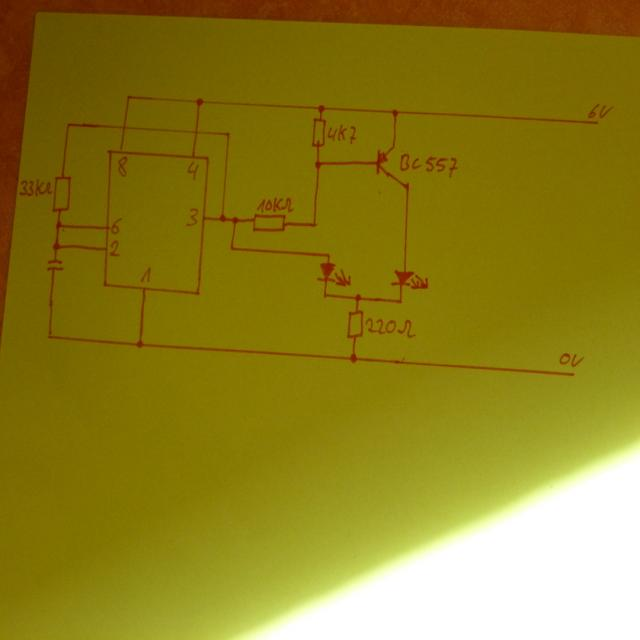capacitor: (46, 256, 64, 273)
crossover: (120, 122, 128, 131), (192, 127, 199, 137)
diode: (316, 261, 352, 287), (389, 268, 428, 290)
junction: (348, 352, 358, 364), (218, 212, 228, 224), (135, 337, 144, 350), (316, 102, 326, 113), (390, 108, 400, 119), (194, 95, 204, 106), (51, 240, 60, 252), (230, 214, 239, 225), (228, 242, 236, 253), (354, 292, 362, 302), (314, 159, 322, 169), (55, 219, 62, 230), (224, 129, 233, 137), (46, 330, 53, 340), (125, 92, 132, 102), (397, 296, 404, 304), (311, 220, 318, 228), (322, 290, 328, 298), (325, 251, 331, 259), (65, 120, 71, 128)
resistor: (52, 175, 72, 212), (251, 213, 286, 233), (346, 308, 363, 340), (310, 116, 326, 147)
terminal: (568, 370, 577, 378), (593, 118, 602, 126)
text: (398, 152, 459, 178), (364, 316, 416, 339), (256, 195, 295, 213), (18, 178, 52, 197), (326, 123, 356, 144), (558, 351, 585, 367), (587, 102, 613, 118), (116, 155, 129, 177), (185, 206, 198, 226), (187, 160, 199, 181), (108, 238, 120, 258), (110, 217, 123, 234), (140, 266, 152, 284)
transistor: (375, 143, 410, 190)
